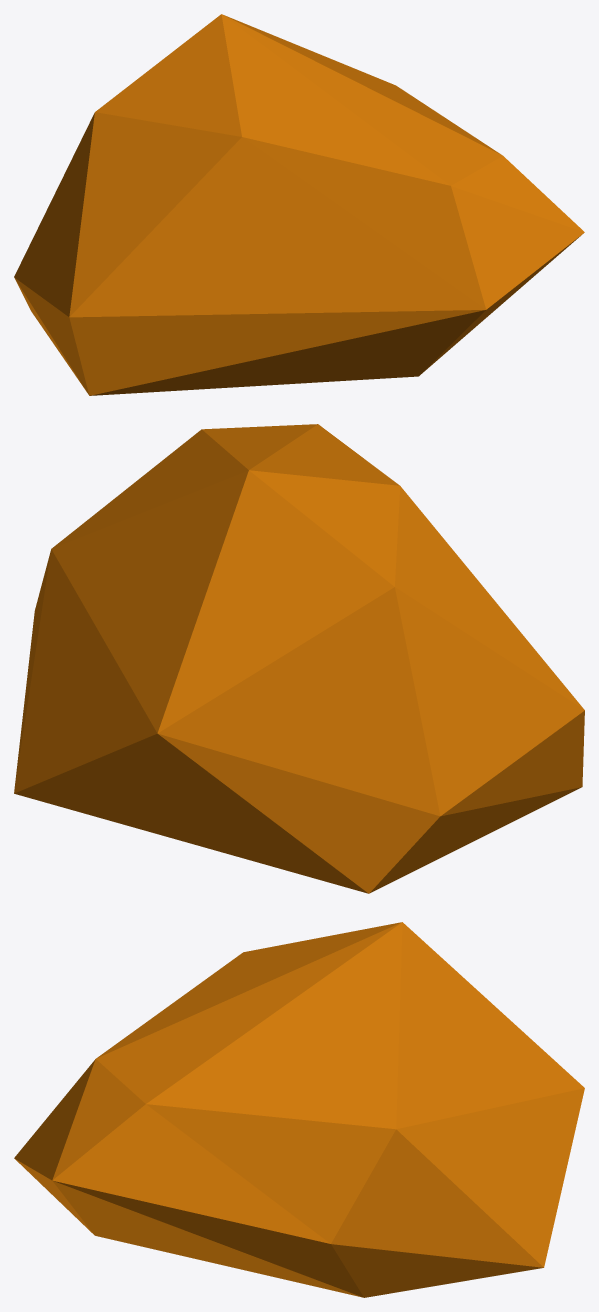
The model's file is Rock_05.fbx.
The picture shows the model from 3 angles, top to bottom: view 1: azimuth 30°, elevation 25°; view 2: azimuth 150°, elevation 25°; view 3: azimuth 270°, elevation 25°; orthographic projection. The views are drawn at different scales.
Visible parts, largest first — view 1: Rock_05; view 2: Rock_05; view 3: Rock_05.
Part boxes in pixels (x1,y1,x2,y2): Rock_05: (14, 14, 584, 395); Rock_05: (14, 424, 584, 893); Rock_05: (14, 922, 584, 1297).
Bounding box in the file's own units: 123 × 79.09 × 131.
